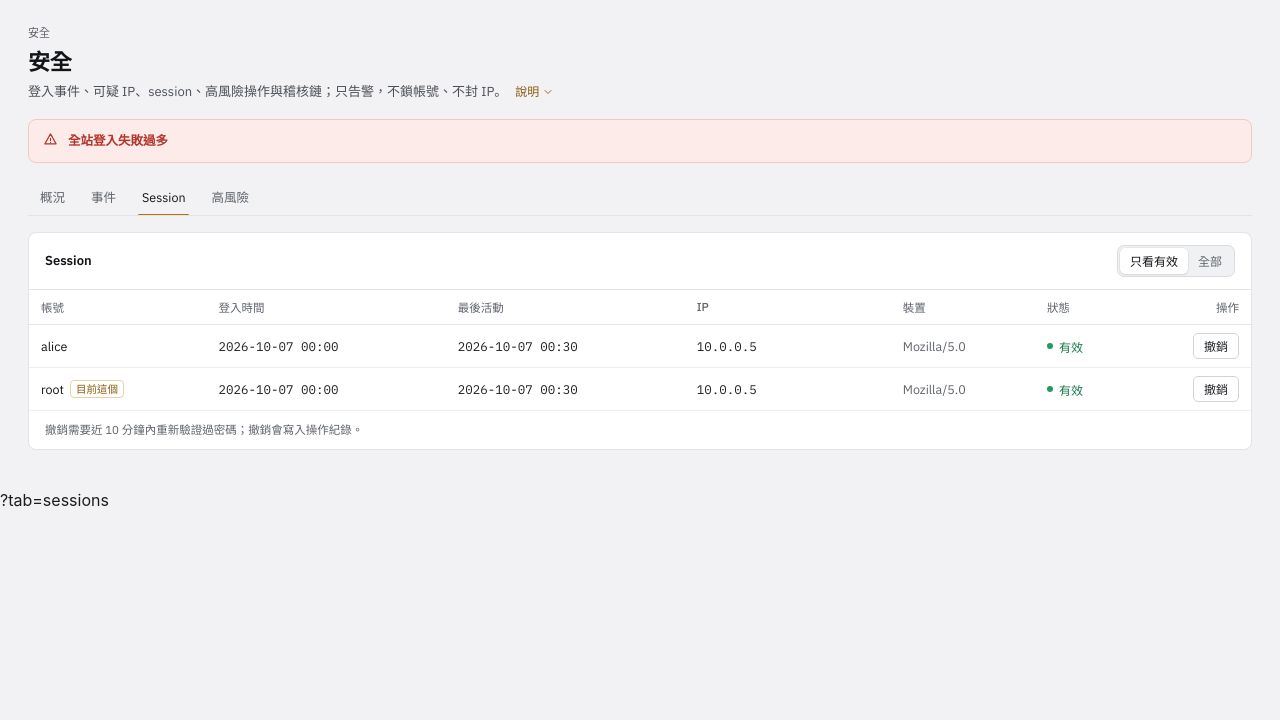
Test: 撤銷單一 session：先確認，再重新驗證身分，成功後用 toast 回報
This screenshot has width=1280, height=720.
Expected: the text "alice" is shown, top-left (41, 338), bottom-right (67, 354)
Expected: the text "目前這個" is shown, top-left (70, 380), bottom-right (124, 398)
Click the button "撤銷" in the row of "alice".
click(1216, 346)  # box top-left (1193, 333), bottom-right (1239, 359)
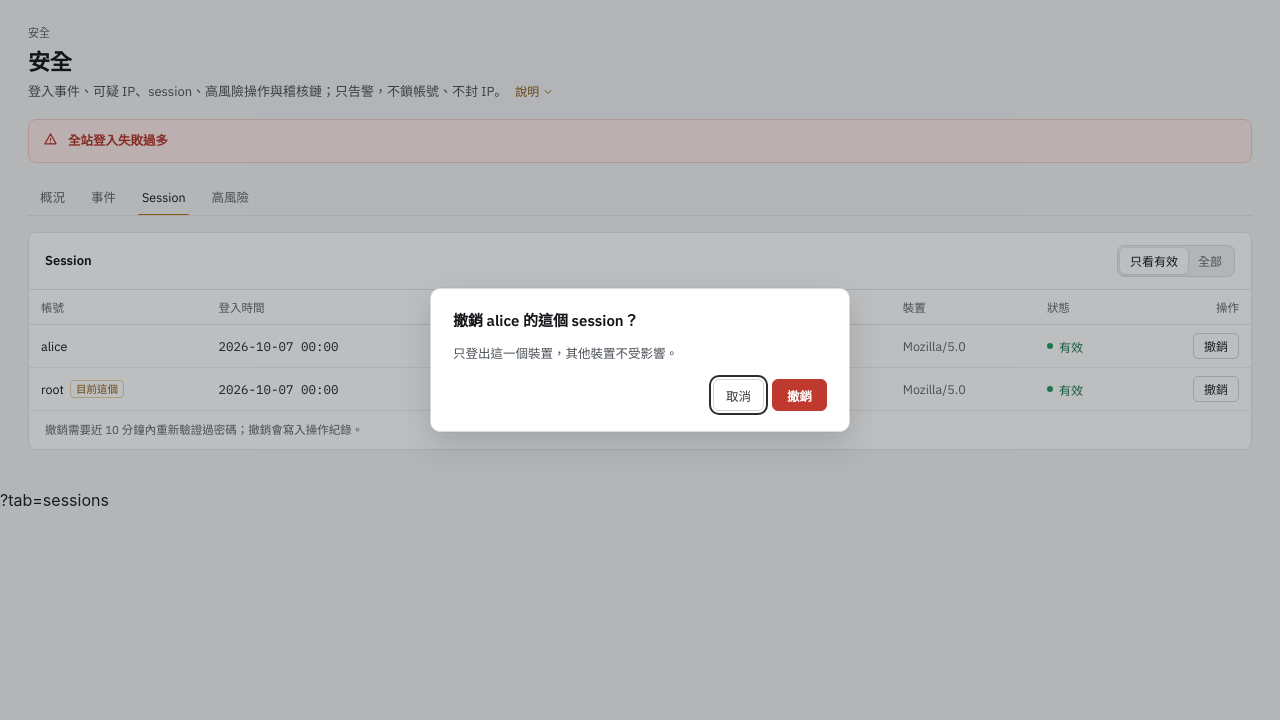
Now the text "只登出這一個裝置，其他裝置不受影響。" is shown, box top-left (453, 345), bottom-right (678, 361)
Click the button "撤銷".
click(800, 395)  # box top-left (772, 379), bottom-right (827, 411)
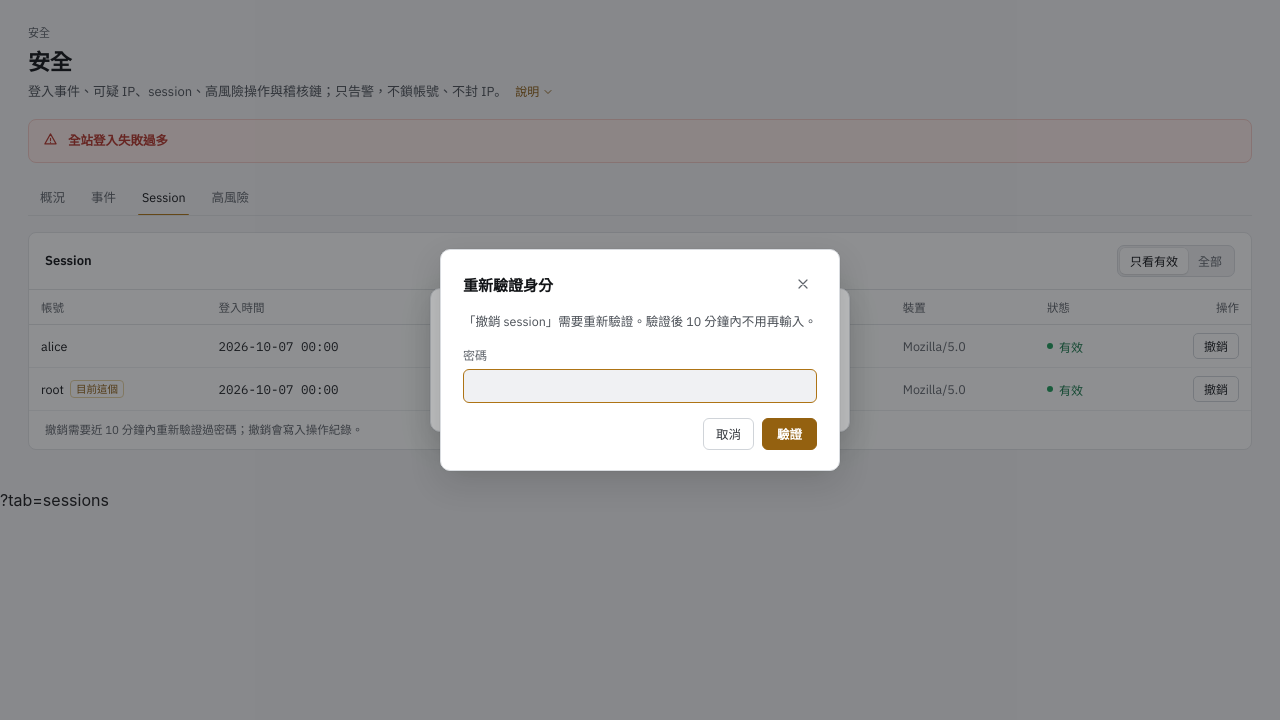
Now the text "「撤銷 session」需要重新驗證。驗證後 10 分鐘內不用再輸入。" is shown, box top-left (463, 311), bottom-right (817, 333)
Type "fixed-test-secret-elevate1" into the password field labelled "密碼".
click(640, 386); type("fixed-test-secret-elevate1")  # box top-left (463, 369), bottom-right (817, 403)
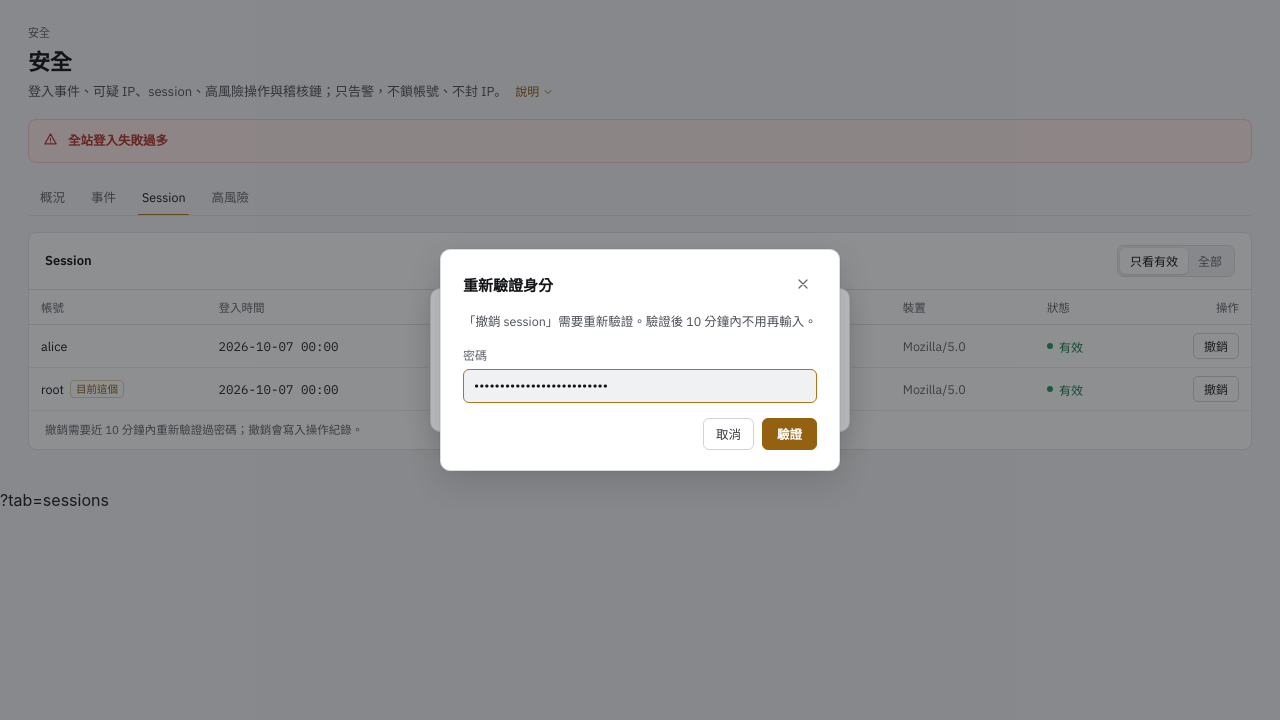
Click the button "驗證".
click(790, 434)  # box top-left (762, 418), bottom-right (817, 450)
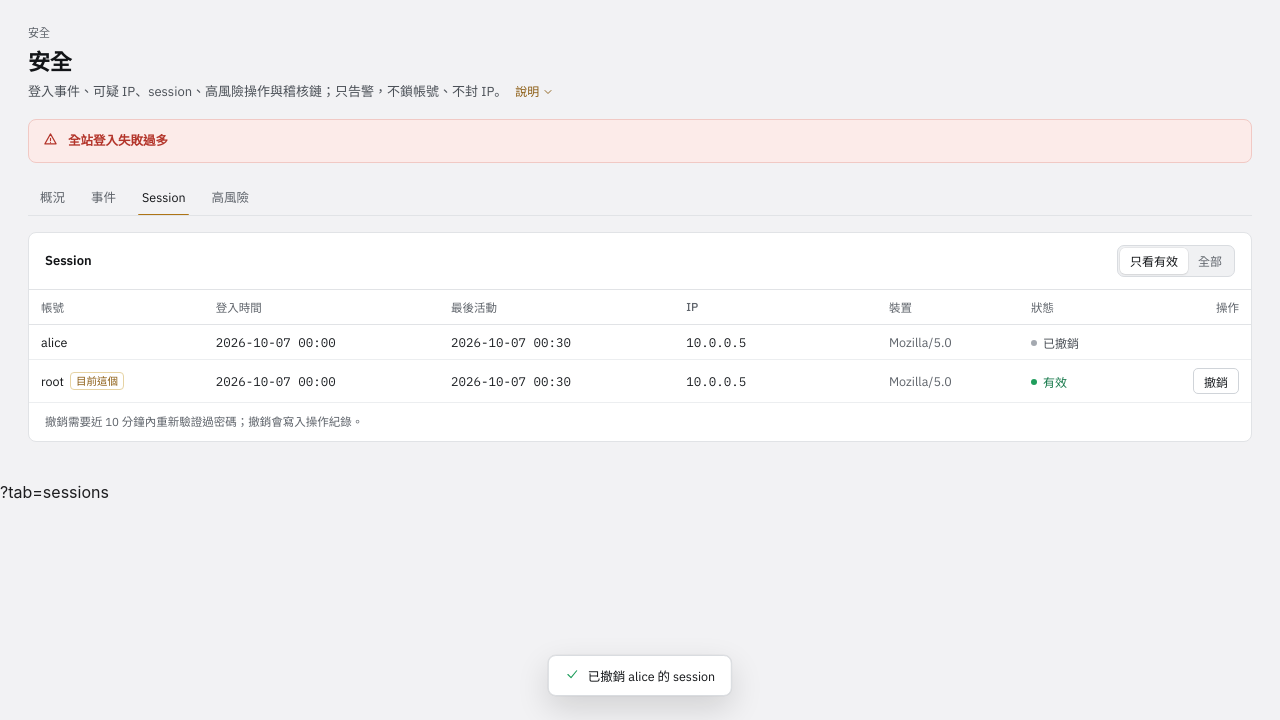
Now the message "已撤銷 alice 的 session" is shown, box top-left (548, 655), bottom-right (732, 696)
Now the text "已撤銷" is shown, box top-left (1031, 334), bottom-right (1079, 351)
Now the dialog is gone
